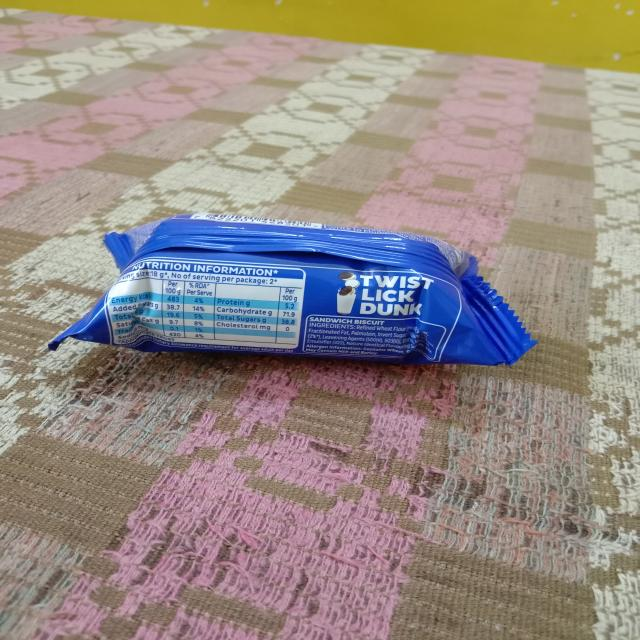oreo biscuit: (50, 216, 537, 382)
